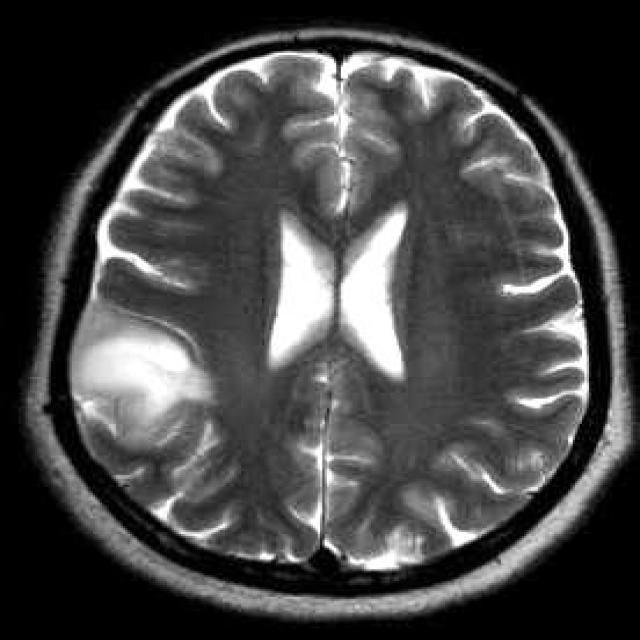notumor: (26, 27, 628, 614)
